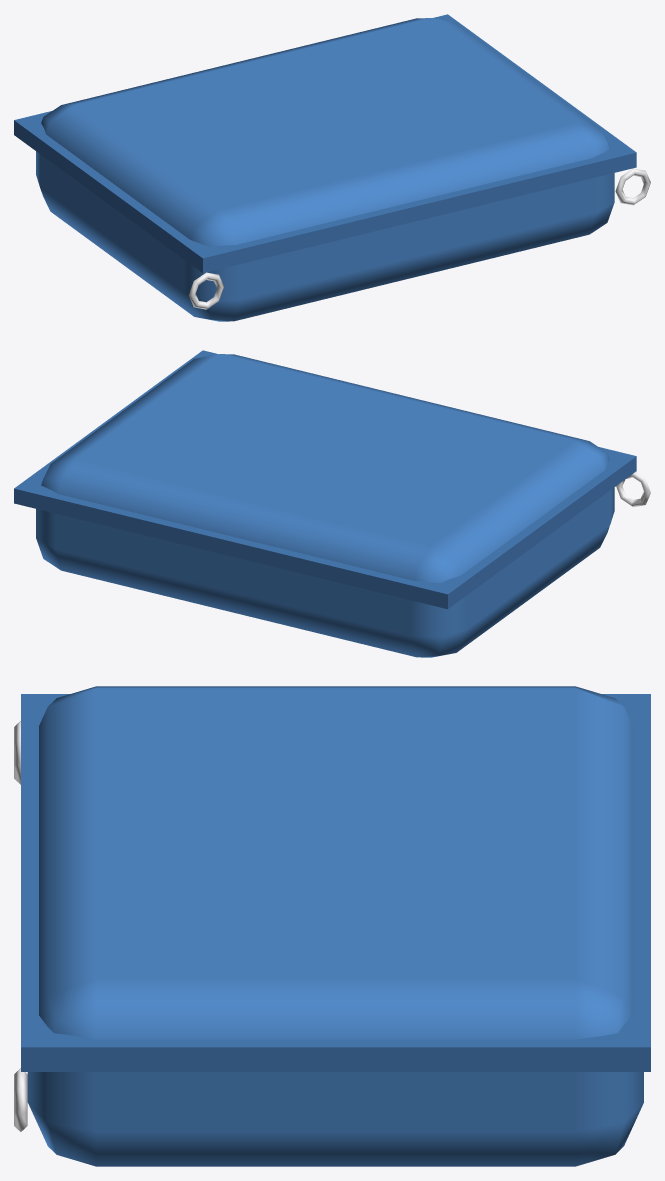
Rendered from tarp.glb.
The picture shows the model from 3 angles, top to bottom: view 1: azimuth 30°, elevation 25°; view 2: azimuth 150°, elevation 25°; view 3: azimuth 270°, elevation 25°; orthographic projection. The views are drawn at different scales.
Parts seen in each view (by area): view 1: tarp_std, tarp_metal; view 2: tarp_std, tarp_metal; view 3: tarp_std, tarp_metal.
Part boxes in pixels (left/top/right/bottom): tarp_std: left=14, top=14, right=636, bottom=321; tarp_metal: left=188, top=168, right=650, bottom=309; tarp_std: left=14, top=350, right=636, bottom=657; tarp_metal: left=616, top=472, right=650, bottom=507; tarp_std: left=21, top=686, right=650, bottom=1166; tarp_metal: left=14, top=721, right=27, bottom=1131.
Size of the model in its own units: 0.65 by 0.15 by 0.465.
